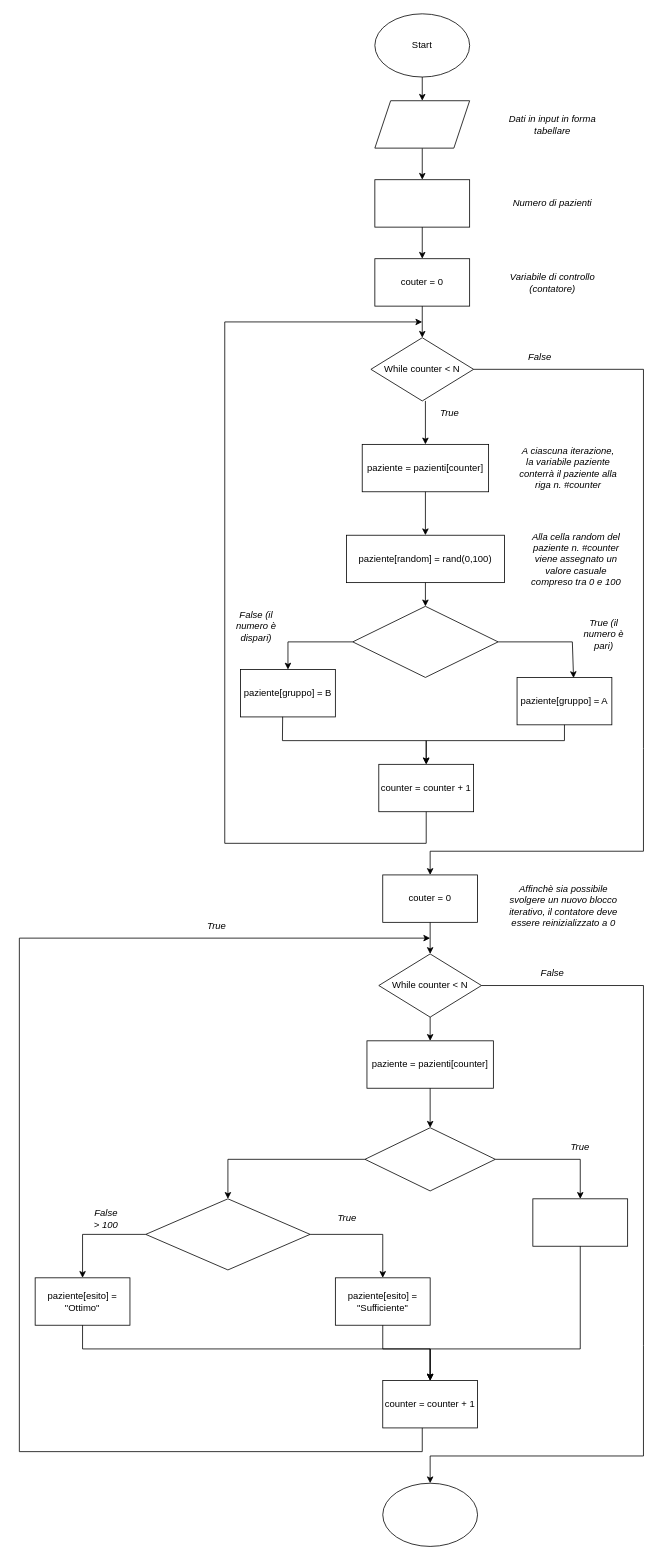
This 664x1560 diagram has some shape labels left out. Here are the shapes that lost their labels. From the top down, the centre of each, then its label:
pixel 422 124: Input pazienti
pixel 422 203: N = 20
pixel 425 641: if paziente[random] % 2 == 0
pixel 429 1159: paziente[risposta] < 50
pixel 227 1234: paziente[risposta] >= 50 AND paziente[risposta] <= 99
pixel 580 1222: paziente[esito] = "Mediocre"
pixel 430 1514: End
